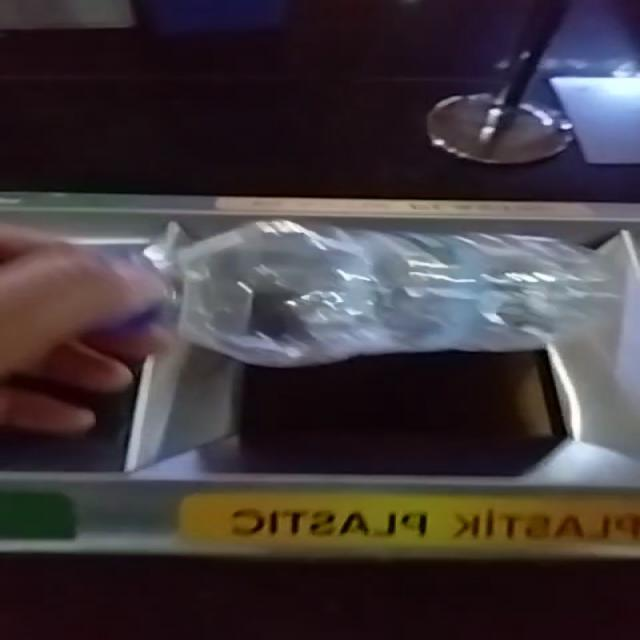plastic: (179, 220, 613, 368)
